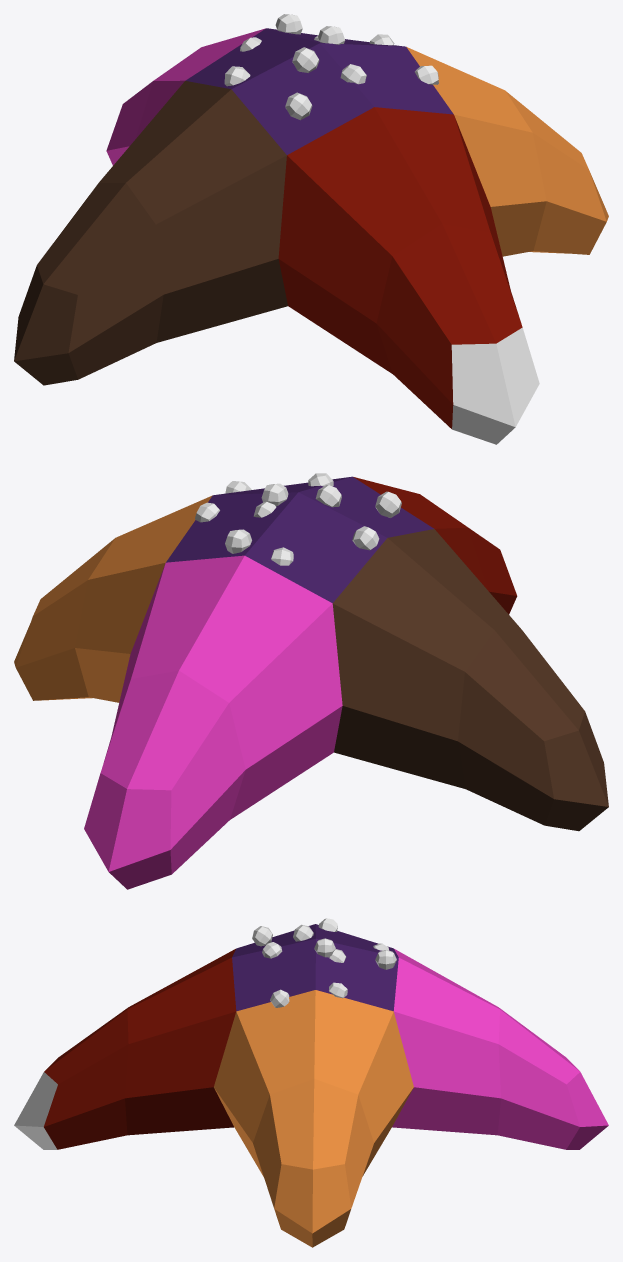
The model's file is roof.fbx.
3 renders of one model, top to bottom at view 1: azimuth 30°, elevation 25°; view 2: azimuth 150°, elevation 25°; view 3: azimuth 270°, elevation 25°, orthographic. The views are drawn at different scales.
Parts seen in each view (by area): view 1: Cube; view 2: Cube; view 3: Cube.
Part boxes in pixels (<box>): Cube: <box>14,14,608,444</box>; Cube: <box>14,473,608,889</box>; Cube: <box>14,918,608,1247</box>.
Size of the model in its own units: 838 by 378 by 939.
